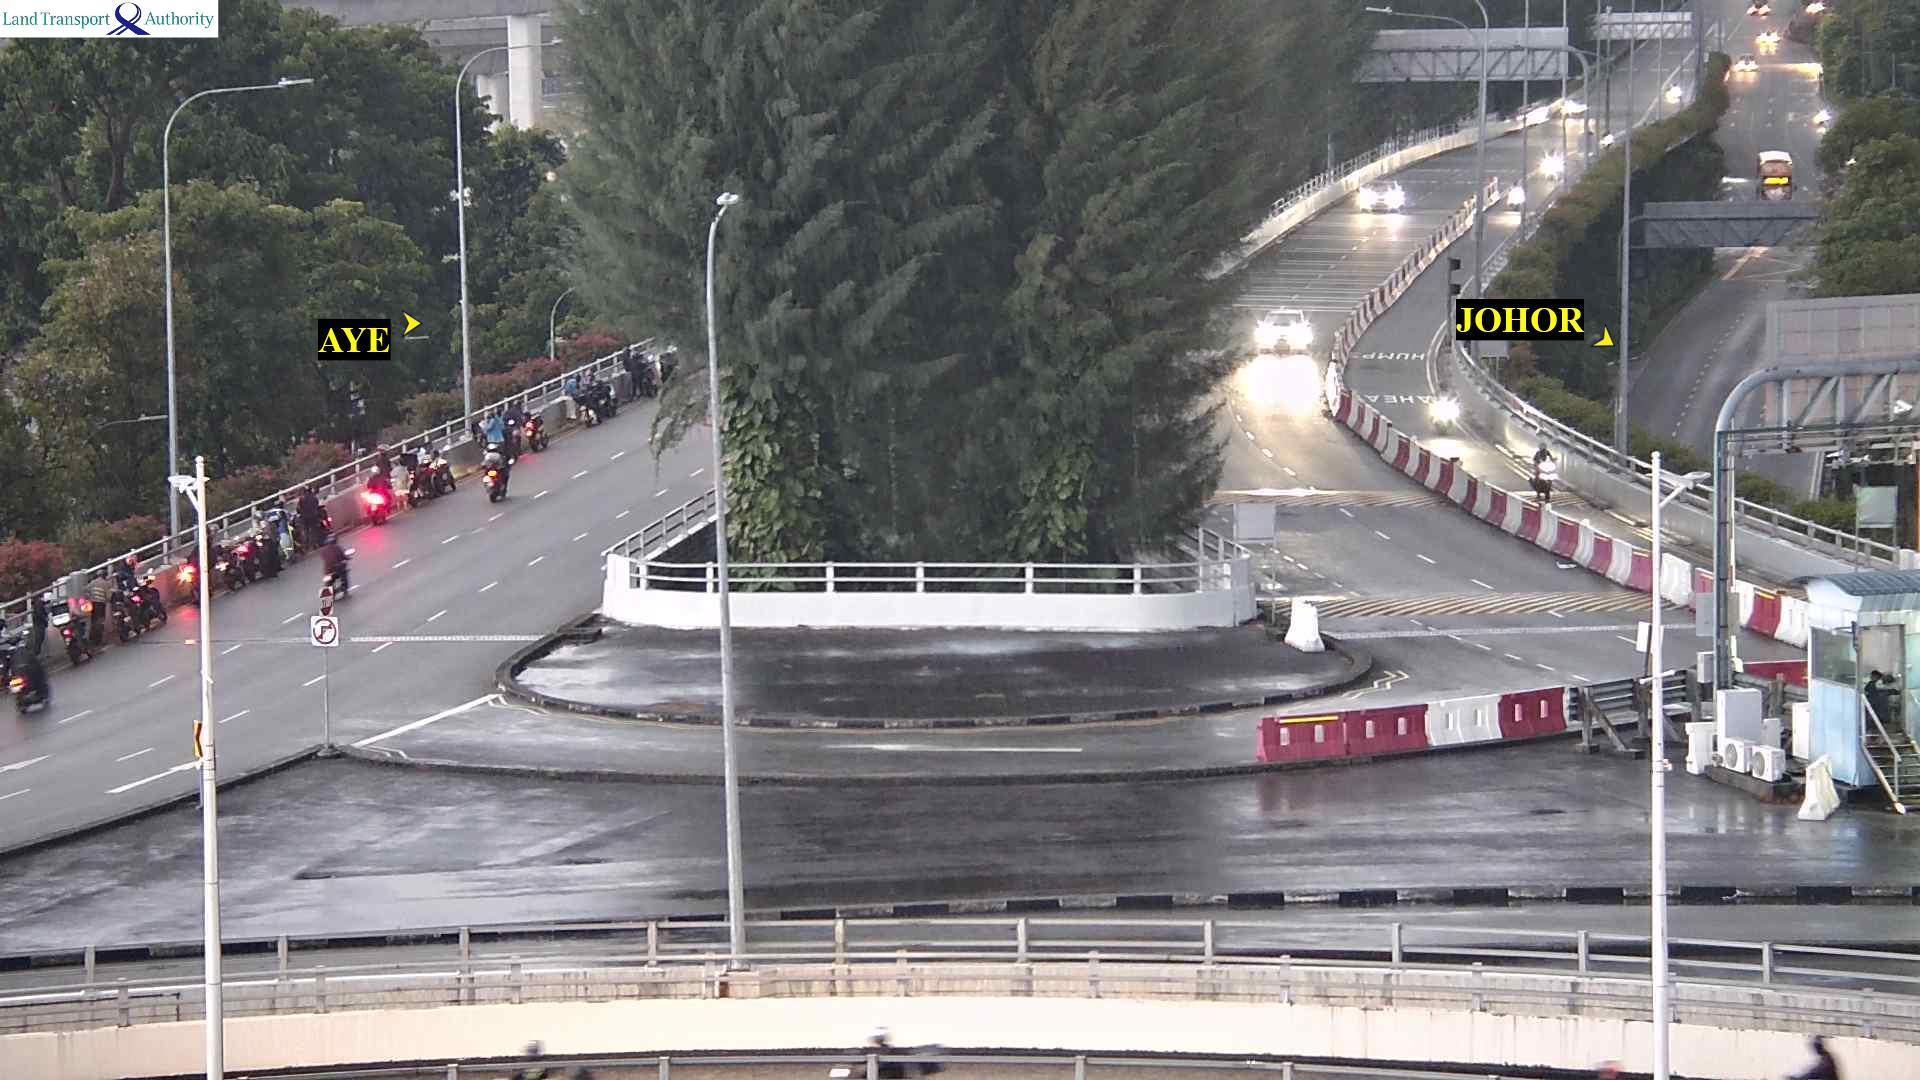vehicle-secondlink-johor: (1263, 311, 1317, 357), (1360, 181, 1407, 216), (1531, 443, 1556, 501), (1433, 382, 1455, 430), (1509, 179, 1523, 211)
vehicle-secondlink-singapore: (61, 600, 104, 658), (9, 666, 49, 717), (295, 485, 328, 546), (481, 444, 514, 501), (252, 513, 281, 576), (128, 583, 161, 625), (425, 458, 456, 498), (364, 481, 389, 521)
